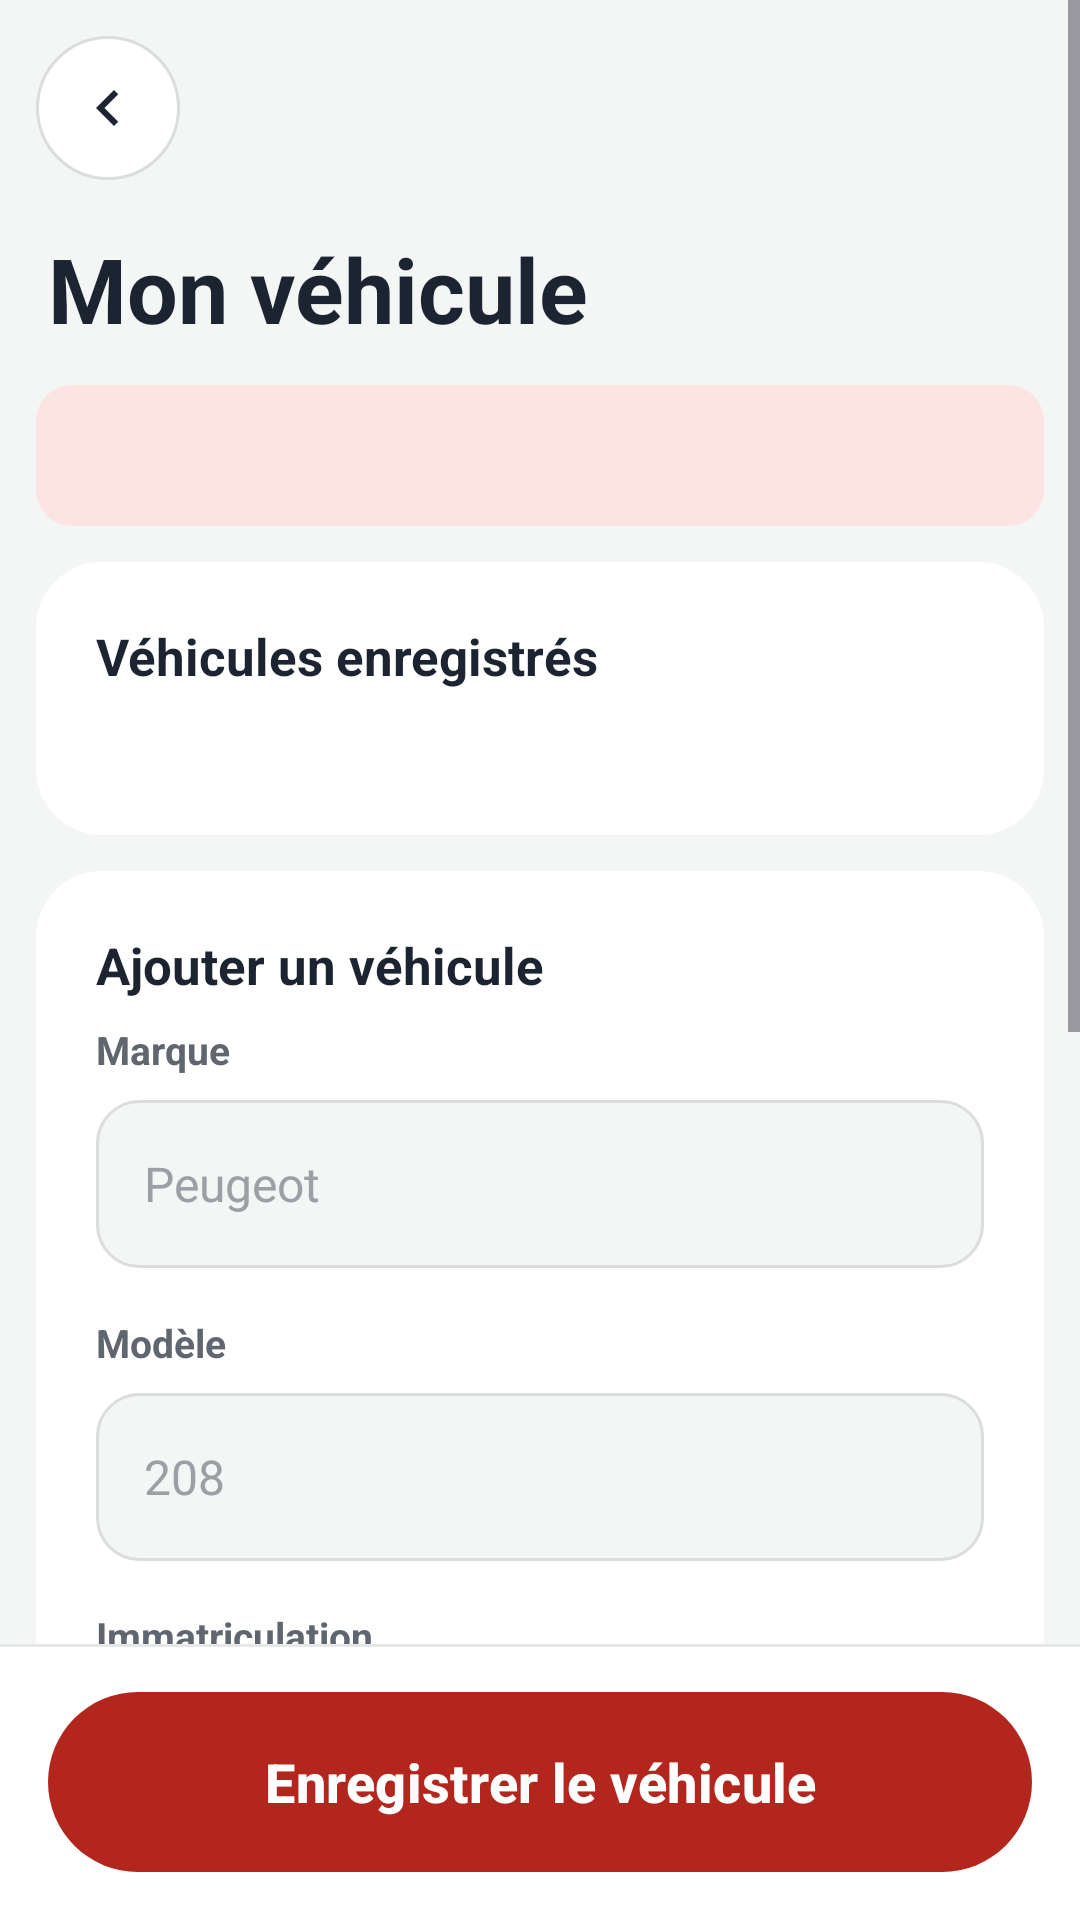

Icon click points for this 1080×1920 phone screenshot, format (x=x, y=y):
Retour: (x=108, y=108)
